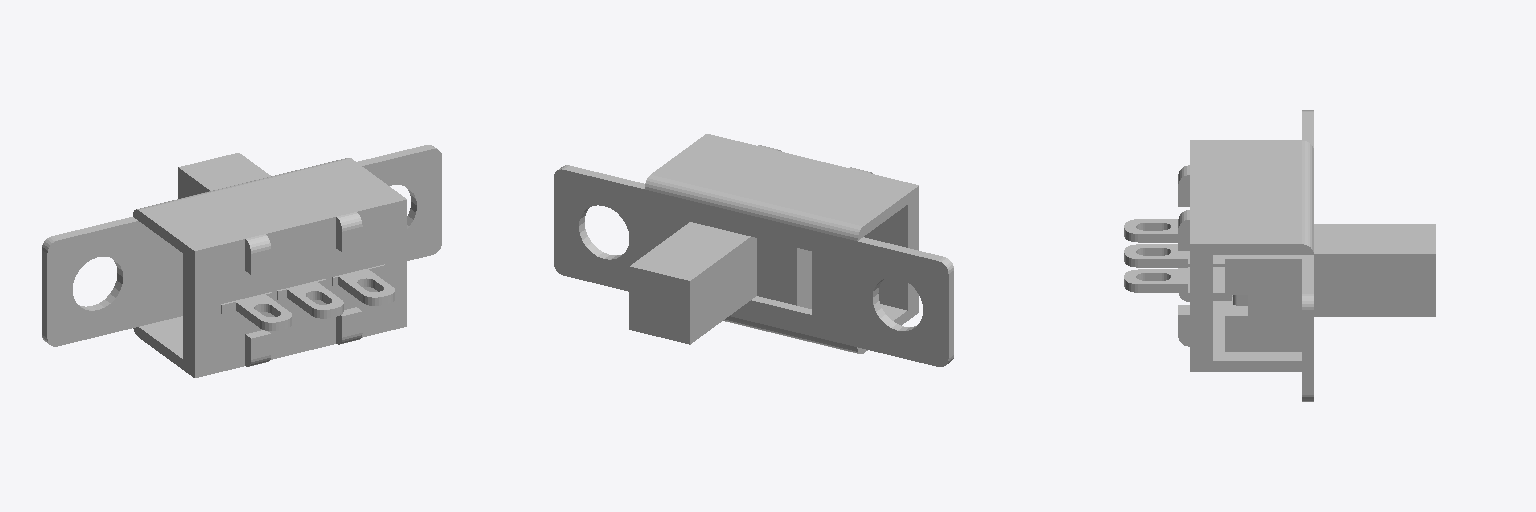
File: Mini Slide Switch.obj
3 renders of one model, left to right at view 1: azimuth 30°, elevation 25°; view 2: azimuth 150°, elevation 25°; view 3: azimuth 270°, elevation 25°, orthographic.
Visible parts, largest first — view 1: Body1, Body2, Body6, Body5, Body3, Body4; view 2: Body1, Body6, Body2; view 3: Body6, Body1, Body2, Body5, Body4, Body3.
Boxes of the visible parts, <box> form: Body1: <box>42,145,441,370</box>; Body2: <box>183,191,406,377</box>; Body6: <box>178,153,270,198</box>; Body5: <box>332,264,394,305</box>; Body3: <box>221,292,291,330</box>; Body4: <box>277,279,343,318</box>; Body1: <box>554,141,953,366</box>; Body6: <box>629,222,811,344</box>; Body2: <box>696,134,918,320</box>; Body6: <box>1225,224,1435,351</box>; Body1: <box>1178,110,1313,401</box>; Body2: <box>1190,140,1212,371</box>; Body5: <box>1124,267,1231,300</box>; Body4: <box>1124,244,1224,267</box>; Body3: <box>1124,219,1177,242</box>.
Size of the model in its own units: 1.95 by 0.6 by 1.33.